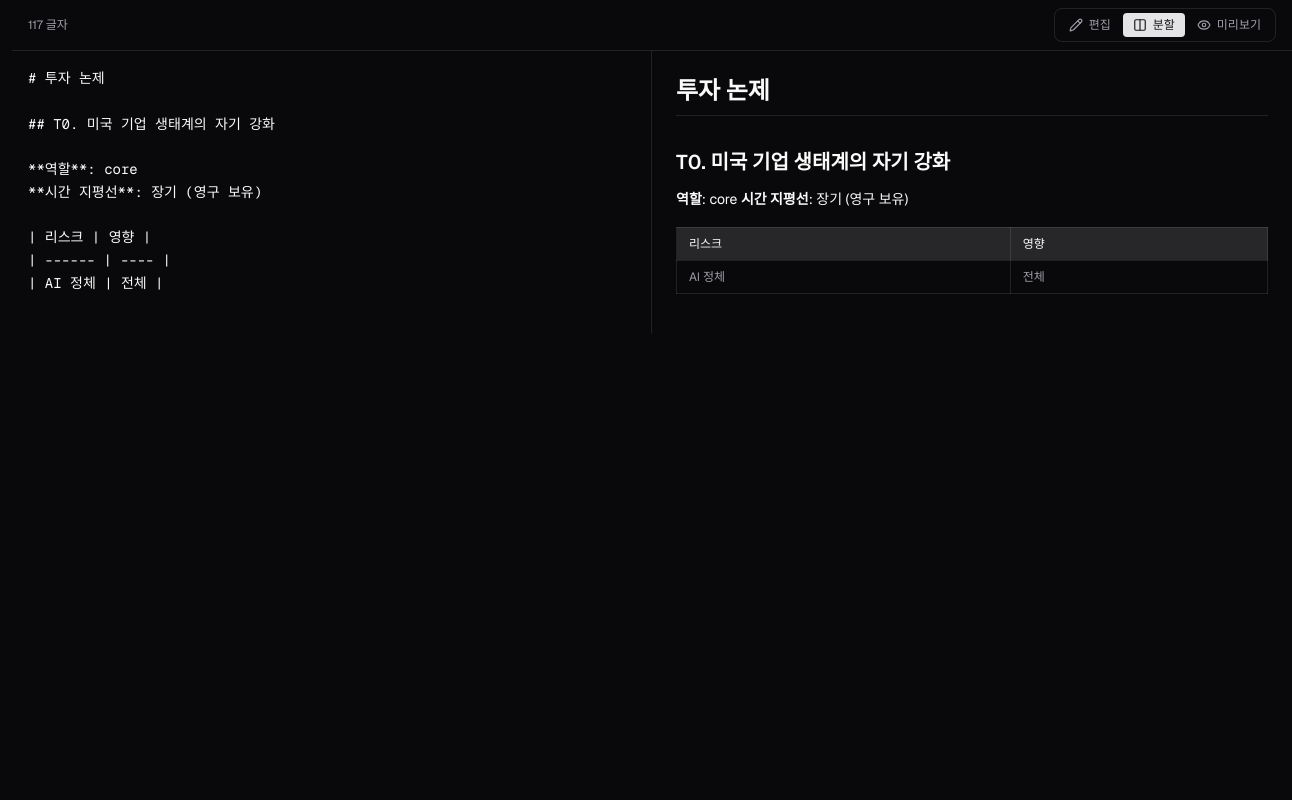
Test: ThesesEditor › 편집과 저장 › 초기화 버튼이 원래 내용으로 복원한다
Type " 추가" into the text box with test id "theses-textarea".
click(332, 192); type(" 추가")  # box [12,51,651,334]
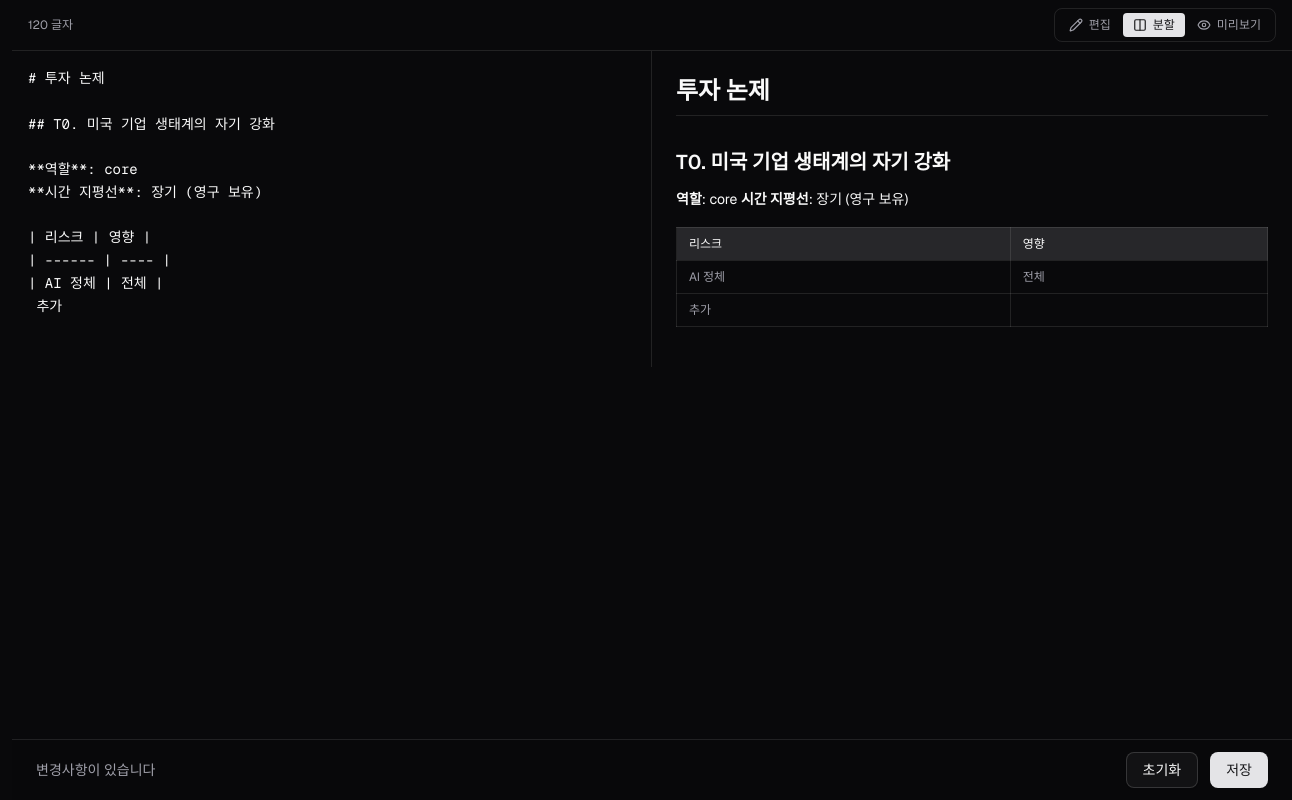
Click the button "초기화".
click(1162, 770)  # box [1126,752,1198,788]
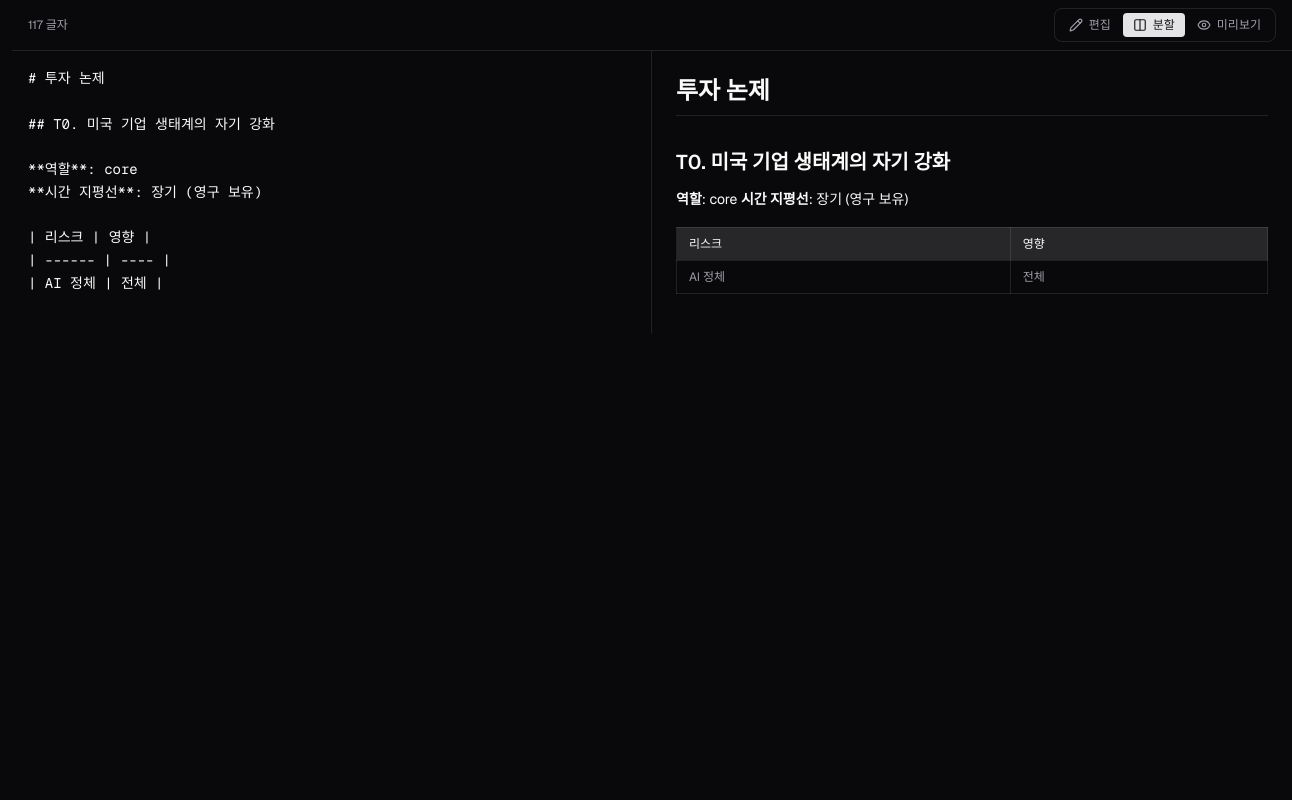
Result: the text box with test id "theses-textarea" holds "# 투자 논제 ## T0. 미국 기업 생태계의 자기 강화 **역할**: core **시간 지평선**: 장기 (영구 보유) | 리스크 | 영향 | | ------ | ---- | | AI 정체 | 전체 | " at [12,51,651,334]
Result: the text "변경사항이 있습니다" is gone
